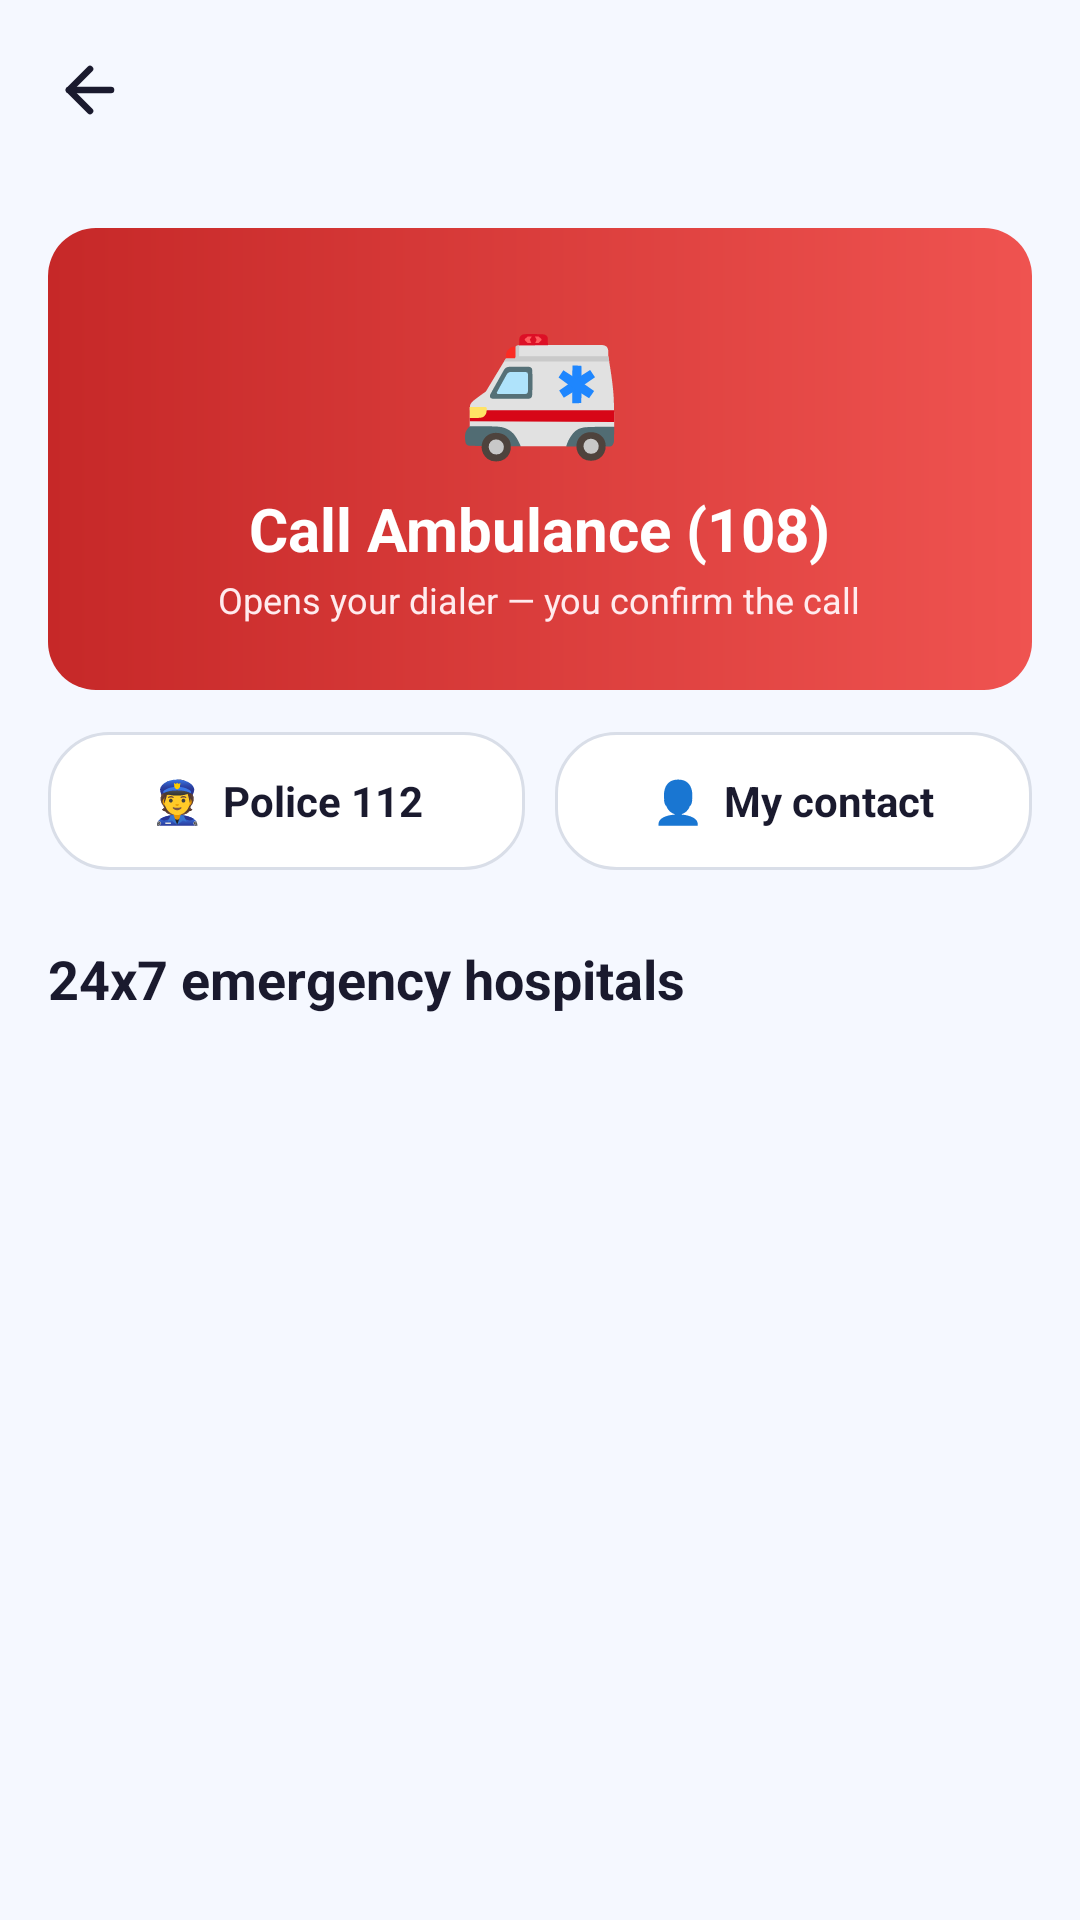

Where icons sit on this 1080x1920 app screen, as (x1, y1, x2, y2):
Back: (65, 65, 115, 115)
